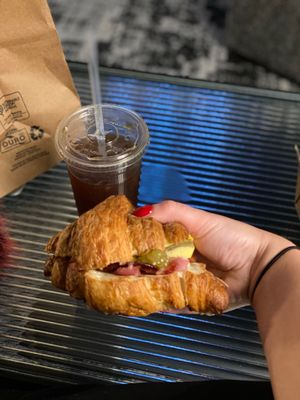pizza: (54, 104, 150, 217)
soup: (42, 193, 230, 316)
